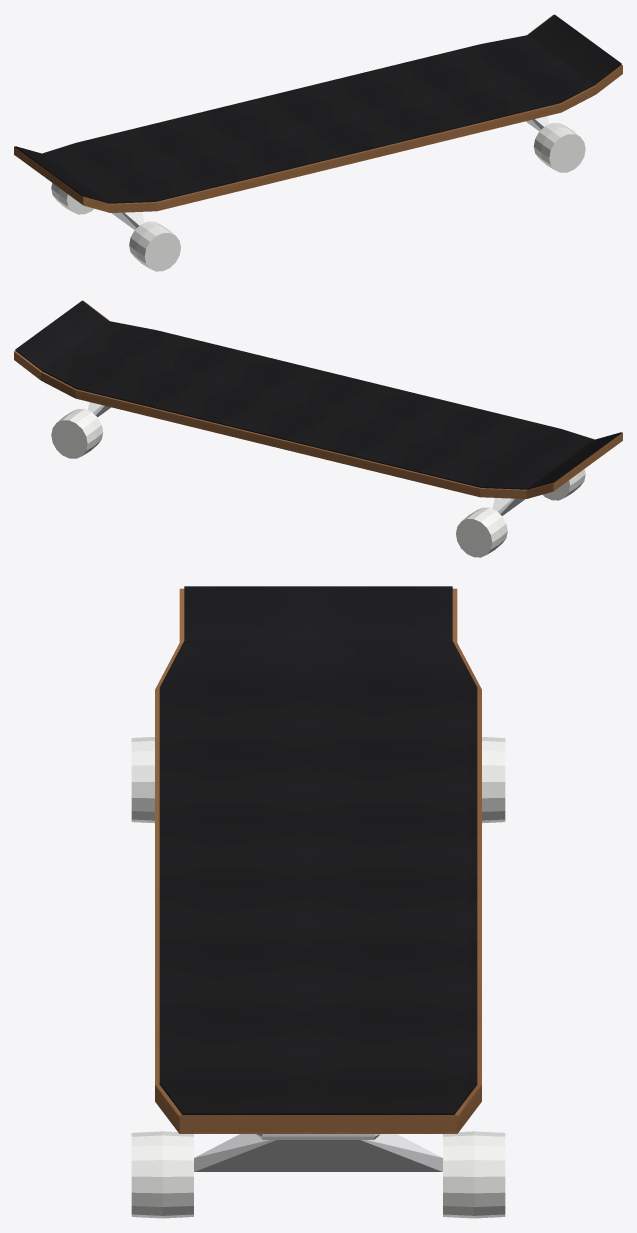
File: skate.glb
3 views of the same model, one above another, from view 1: azimuth 30°, elevation 25°; view 2: azimuth 150°, elevation 25°; view 3: azimuth 270°, elevation 25° (orthographic). The views are drawn at different scales.
Parts seen in each view (by area): view 1: skate_lixa_skate, skate_madeira, skate_plastico_branco, skate_aco_polido; view 2: skate_lixa_skate, skate_madeira, skate_plastico_branco, skate_aco_polido; view 3: skate_lixa_skate, skate_plastico_branco, skate_madeira, skate_aco_polido.
Boxes of the visible parts, x1,y1,x2,y2 form: skate_lixa_skate: [15, 14, 621, 203]; skate_madeira: [14, 15, 622, 212]; skate_plastico_branco: [51, 123, 585, 271]; skate_aco_polido: [111, 116, 549, 229]; skate_lixa_skate: [15, 300, 621, 489]; skate_madeira: [14, 301, 622, 498]; skate_plastico_branco: [51, 409, 585, 557]; skate_aco_polido: [87, 402, 525, 515]; skate_lixa_skate: [159, 586, 477, 1114]; skate_plastico_branco: [131, 737, 505, 1218]; skate_madeira: [155, 588, 481, 1133]; skate_aco_polido: [194, 1134, 442, 1171].
Bounding box in the file's own units: 0.8 × 0.1185 × 0.24.
Materials: 4 (2 with a texture image).
